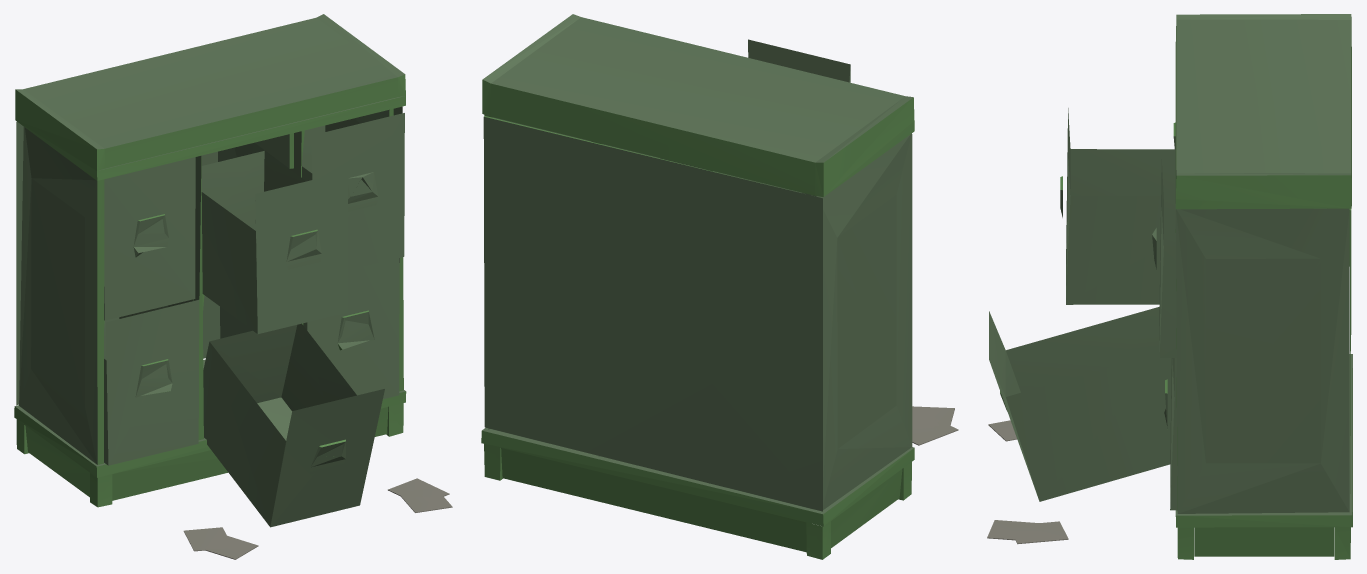
File: drawer_chest_spilled.glb
The picture shows the model from 3 angles, left to right: view 1: azimuth 30°, elevation 25°; view 2: azimuth 150°, elevation 25°; view 3: azimuth 270°, elevation 25°; orthographic projection. The views are drawn at different scales.
Parts seen in each view (by area): view 1: drawer_chest_spilled; view 2: drawer_chest_spilled; view 3: drawer_chest_spilled.
Boxes of the visible parts, x1,y1,x2,y2 form: drawer_chest_spilled: (14,14,452,559); drawer_chest_spilled: (481,14,958,559); drawer_chest_spilled: (987,14,1352,559).
Bounding box in the file's own units: 0.9 × 1 × 0.86.
